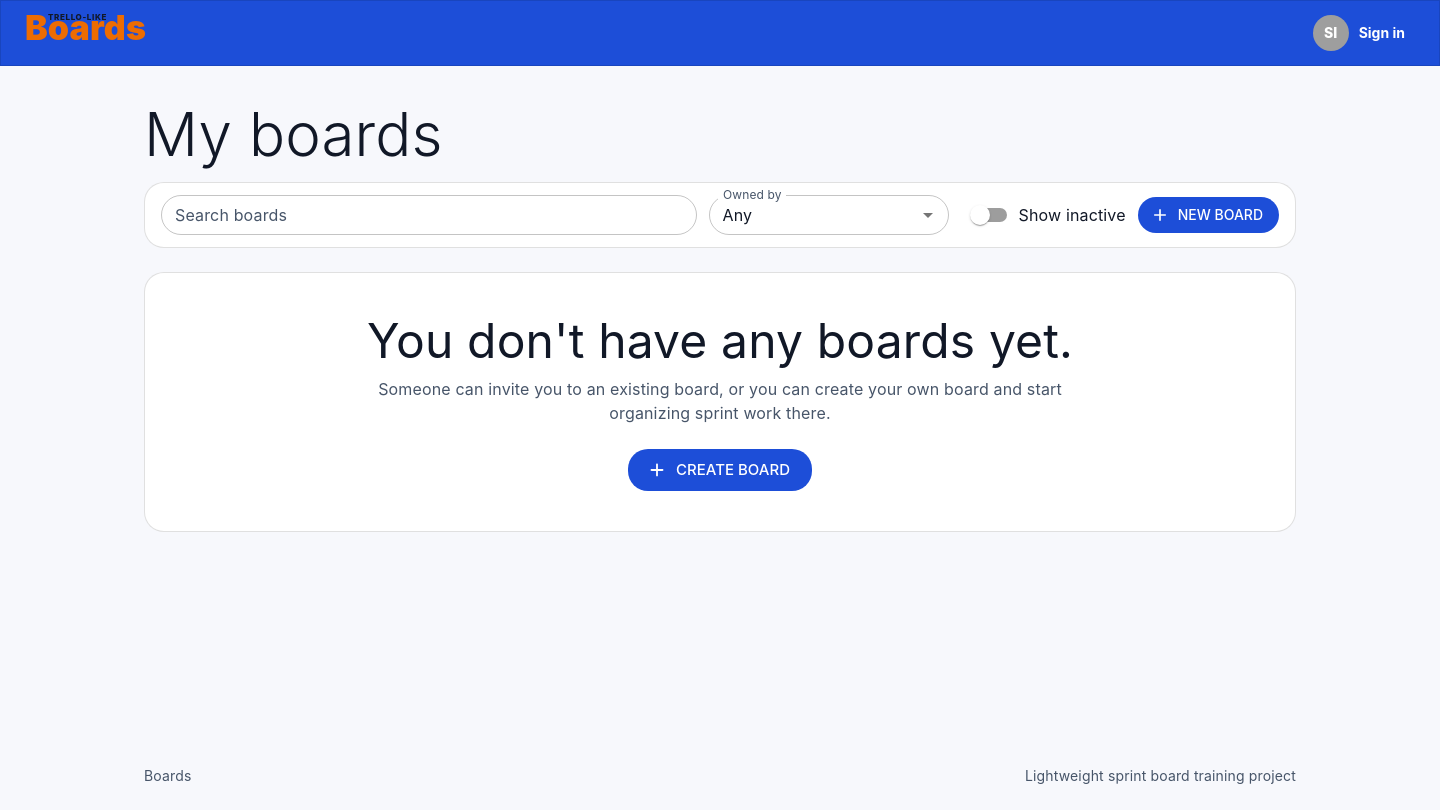
it: MyBoardsPage › renders the empty boards state and opens the create board dialog
The width and height of the screenshot is (1440, 810).
expect the field labelled "Search boards" is shown: met, box [161,195,696,235]
expect the dropdown labelled "Owned by" is shown: met, box [714,201,910,229]
Click the button "New board" at x=1208, y=215, box [1138,197,1279,233]
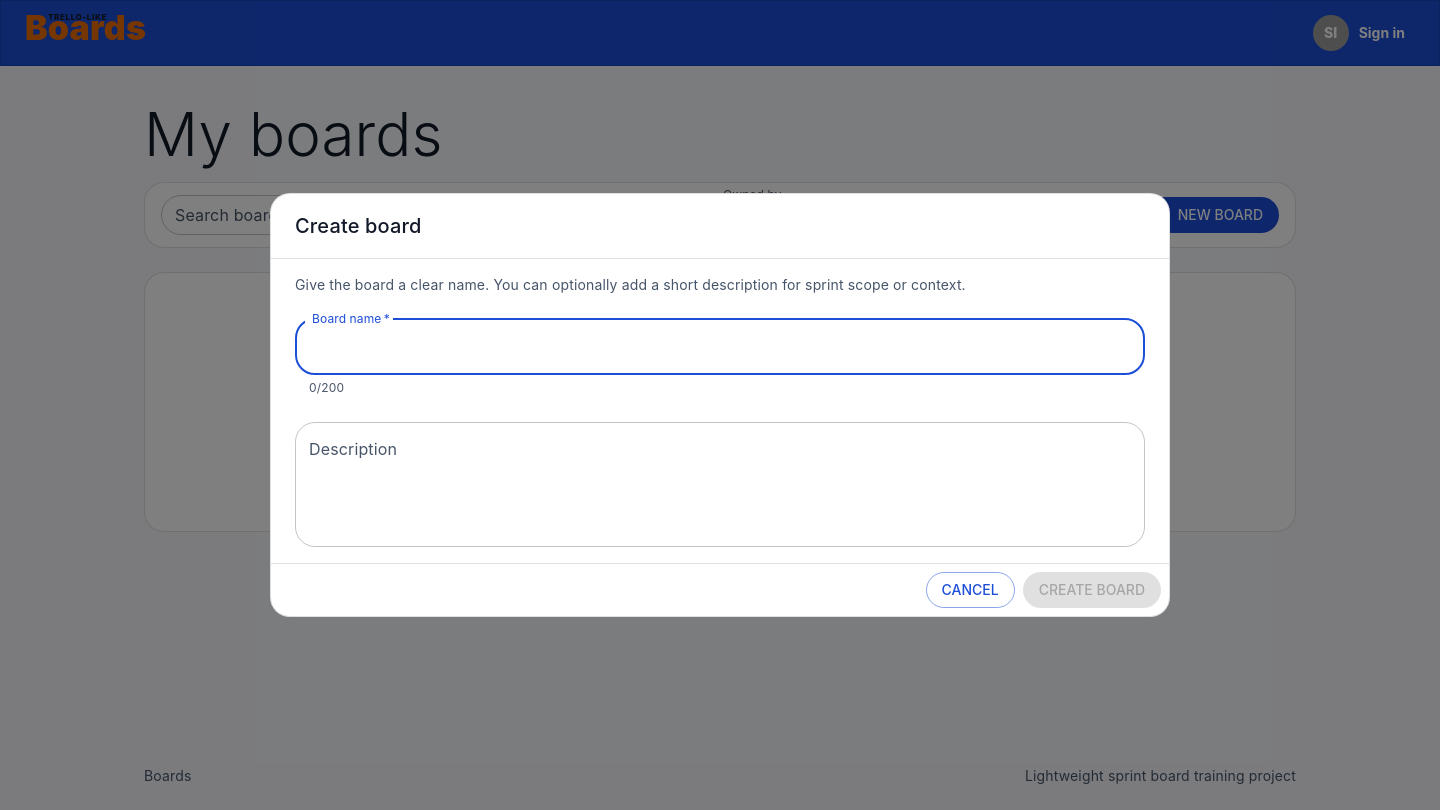
expect the dialog "Create board" is shown: met, box [270,193,1170,617]
expect the button "Create board" is disabled: met, box [1023,572,1161,608]
Type "API Sprint" into the field labelled "Board name" at x=720, y=347, box [295,319,1145,375]
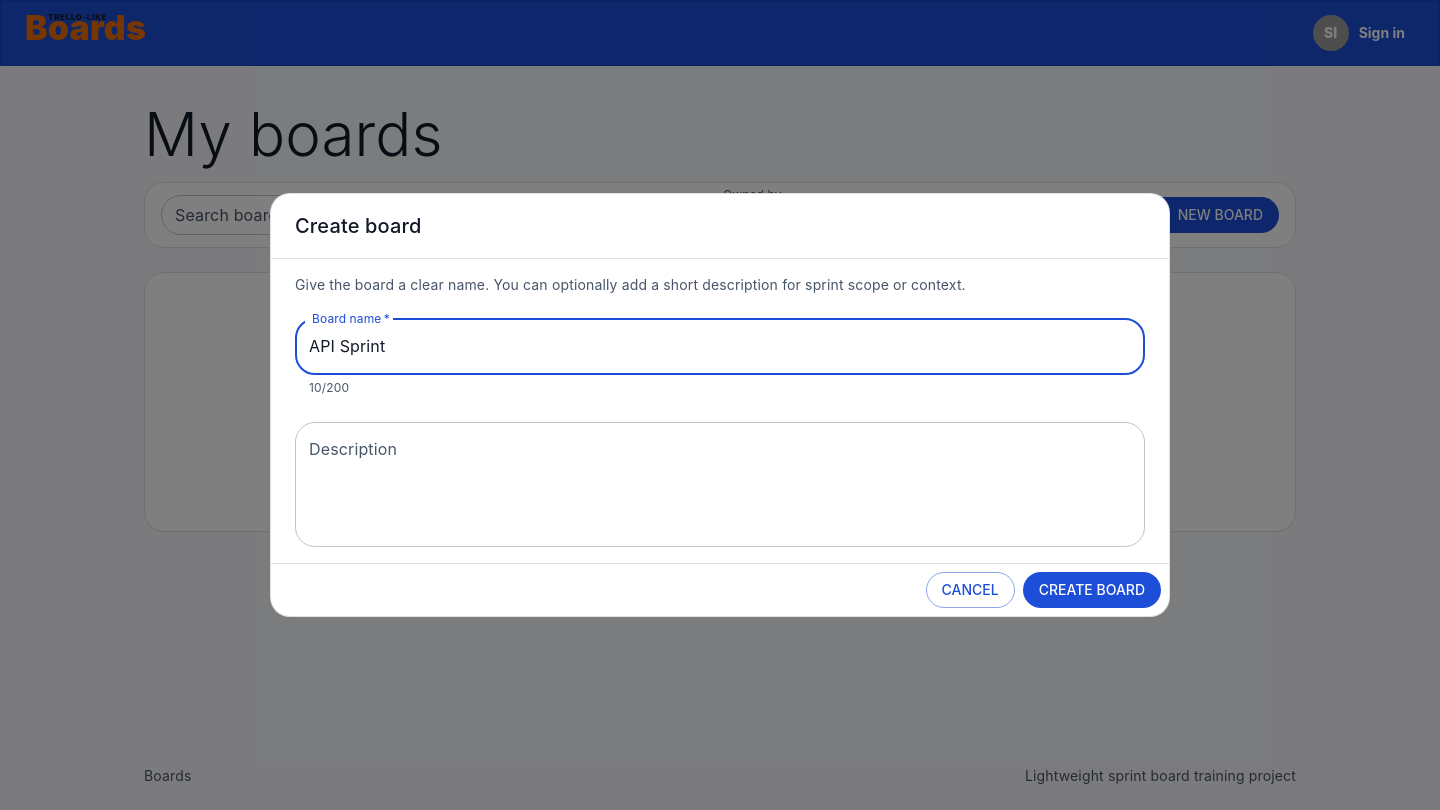
expect the button "Create board" is enabled: met, box [1023,572,1161,608]
